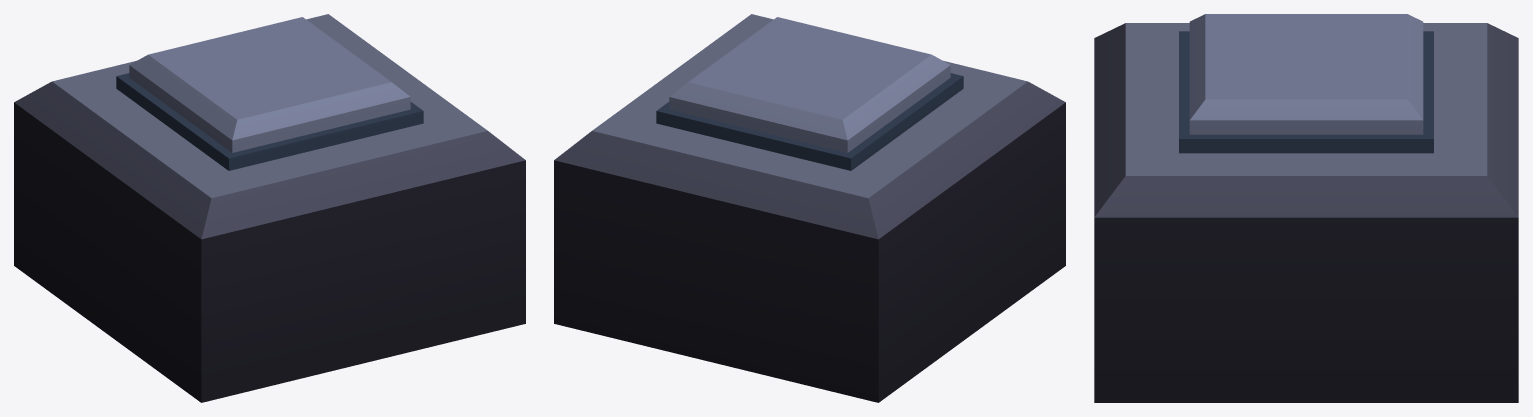
Rendered from assembling-machine-2.glb.
3 views of the same model, side by side, from view 1: azimuth 30°, elevation 25°; view 2: azimuth 150°, elevation 25°; view 3: azimuth 270°, elevation 25° (orthographic). The views are drawn at different scales.
Visible parts, largest first — view 1: assembling-machine-2; view 2: assembling-machine-2; view 3: assembling-machine-2.
Part boxes in pixels (x1=…): assembling-machine-2: x1=14, y1=14, x2=525, y2=402; assembling-machine-2: x1=554, y1=14, x2=1065, y2=402; assembling-machine-2: x1=1094, y1=14, x2=1518, y2=402.
Size of the model in its own units: 0.27 by 0.18 by 0.27.
